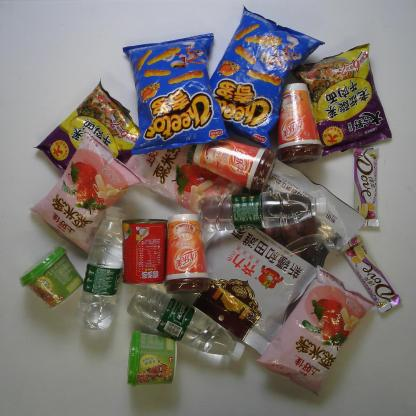Canned Food: (122, 219, 167, 286)
Chocolate: (338, 236, 402, 313), (354, 146, 379, 228)
Dried Food: (177, 158, 365, 365)
Drink: (127, 283, 245, 362), (75, 205, 124, 331), (198, 192, 327, 234)
Instant Drink: (193, 134, 277, 194), (21, 246, 83, 310), (276, 82, 324, 162), (164, 213, 212, 292), (126, 330, 177, 386)
Instant Noodles: (34, 79, 148, 192), (290, 44, 392, 156)
Puffed Food: (199, 4, 325, 149), (120, 116, 262, 233), (30, 128, 146, 261), (256, 266, 374, 396), (123, 34, 231, 154)
